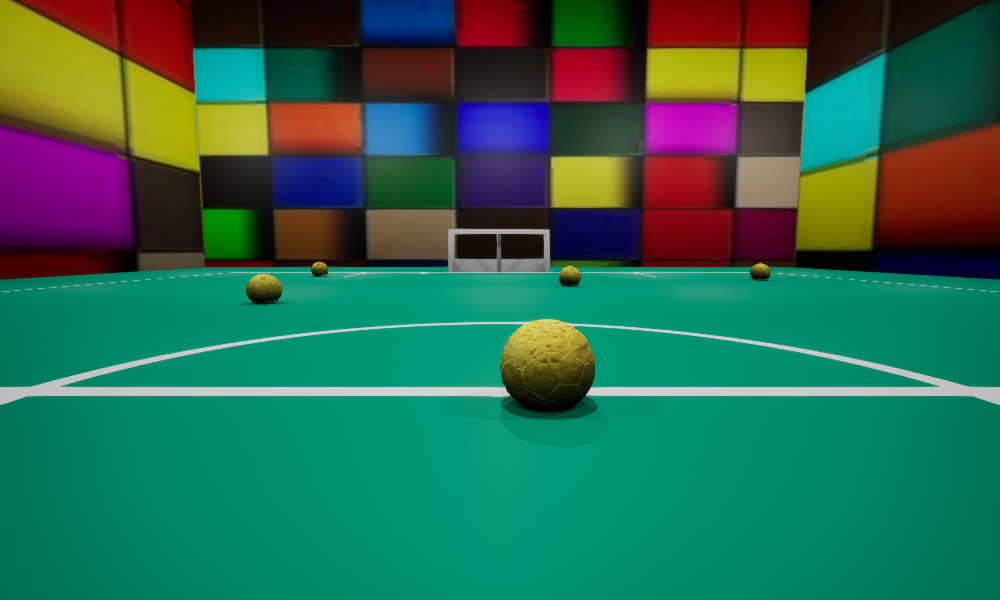b: (500, 319, 594, 408), (246, 274, 281, 303), (559, 266, 580, 285), (750, 263, 770, 279), (311, 262, 327, 275)
g: (448, 229, 549, 271)
